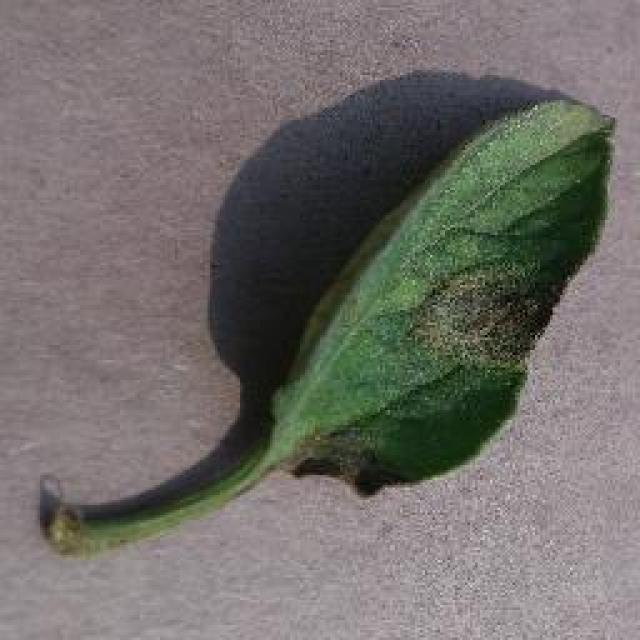Tomato late blight leaf: (268, 96, 620, 502)
